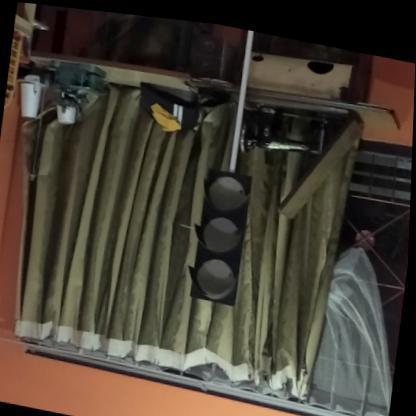green: (186, 161, 254, 302)
